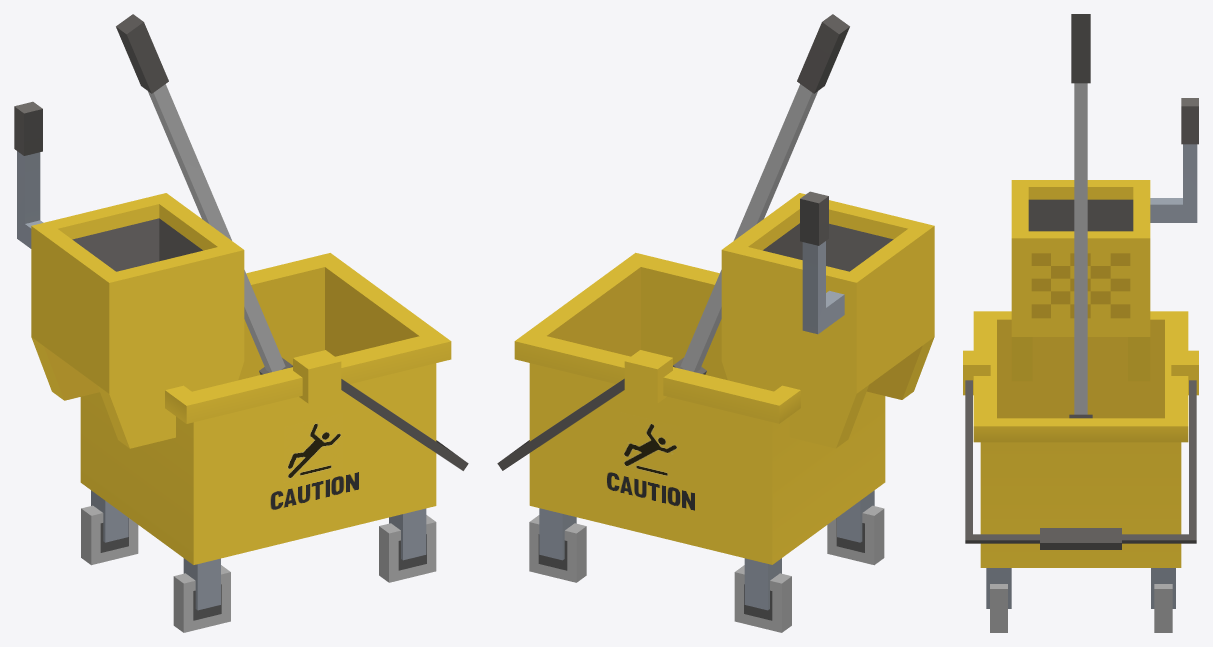
Rendered from MopBin.glb.
The picture shows the model from 3 angles, left to right: view 1: azimuth 30°, elevation 25°; view 2: azimuth 150°, elevation 25°; view 3: azimuth 270°, elevation 25°; orthographic projection. The views are drawn at different scales.
Parts seen in each view (by area): view 1: SI_Prop_MopBin_01; view 2: SI_Prop_MopBin_01; view 3: SI_Prop_MopBin_01.
Part boxes in pixels (x1,y1,x2,y2): SI_Prop_MopBin_01: (14,14,468,632); SI_Prop_MopBin_01: (497,14,934,632); SI_Prop_MopBin_01: (963,14,1198,632).
Bounding box in the file's own units: 0.0161 × 0.0261 × 0.0109.
Materials: 1 (1 with a texture image).
